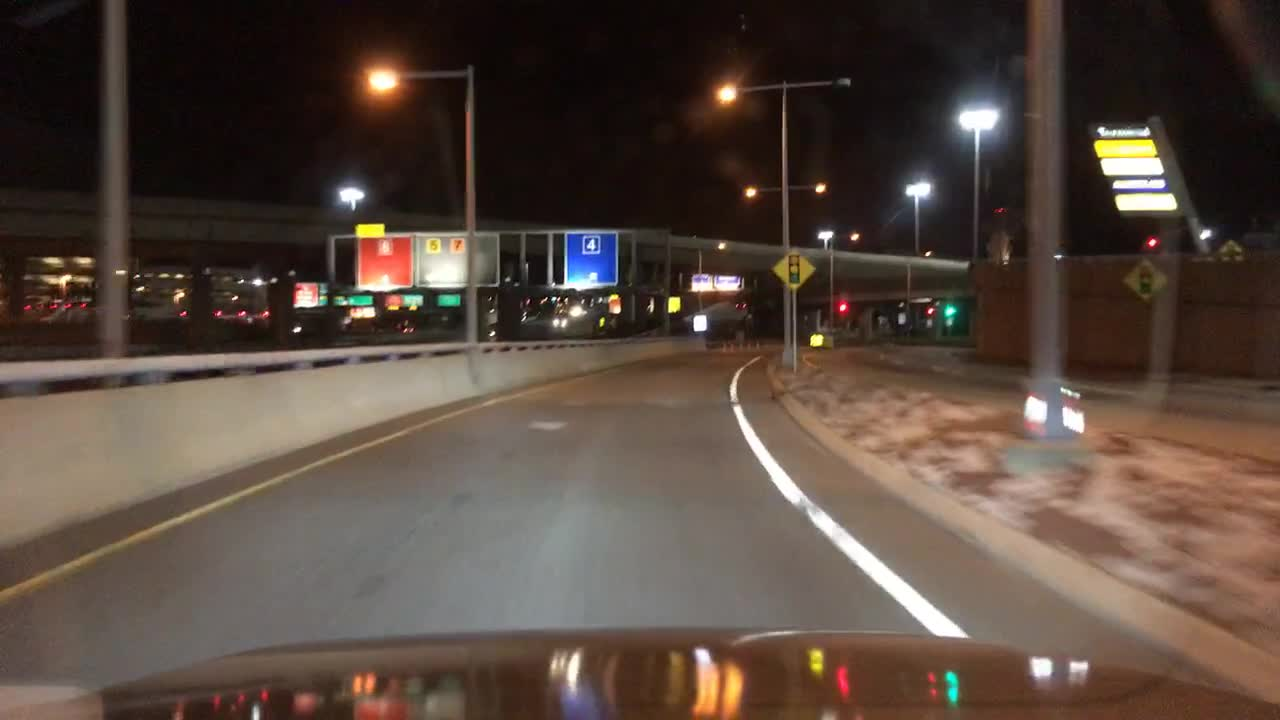car: (209, 304, 270, 327), (128, 301, 189, 321), (55, 296, 99, 321), (334, 312, 380, 335), (419, 308, 460, 329), (289, 312, 322, 333), (21, 293, 52, 310), (393, 316, 420, 335), (550, 310, 575, 328), (567, 301, 591, 317), (732, 294, 751, 310)
traffic light: (1145, 234, 1160, 250), (942, 301, 958, 314), (837, 301, 849, 314), (923, 304, 938, 314)
traffic sign: (419, 231, 503, 288), (357, 231, 413, 287), (564, 231, 616, 286), (1124, 255, 1172, 302), (770, 248, 817, 290), (292, 279, 326, 308), (1215, 236, 1250, 262), (707, 272, 747, 291), (357, 221, 387, 238), (692, 266, 710, 294), (437, 290, 463, 306), (606, 290, 623, 314), (401, 291, 425, 306), (382, 291, 405, 306), (665, 295, 684, 313), (348, 293, 374, 304), (331, 293, 346, 306), (896, 312, 907, 328)
